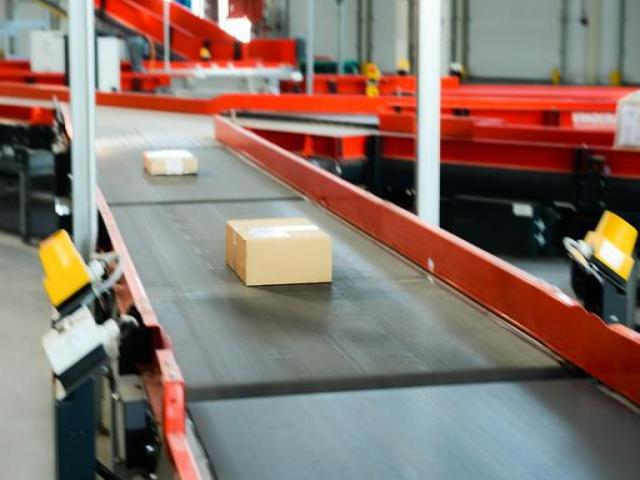conveyor: (36, 127, 640, 480)
